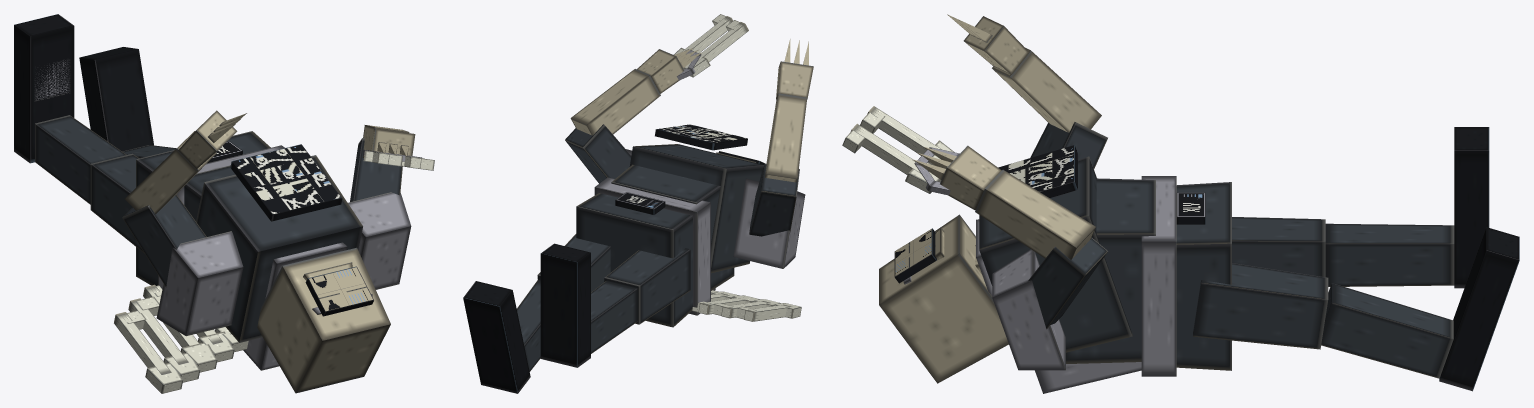
File: absentiel_hurt.obj
3 renders of one model, left to right at view 1: azimuth 30°, elevation 25°; view 2: azimuth 150°, elevation 25°; view 3: azimuth 270°, elevation 25°, orthographic. The views are drawn at different scales.
Visible parts, largest first — view 1: absentiel_hurt; view 2: absentiel_hurt; view 3: absentiel_hurt.
Part boxes in pixels (<box>): absentiel_hurt: <box>14,14,434,393</box>; absentiel_hurt: <box>463,14,813,393</box>; absentiel_hurt: <box>842,14,1519,393</box>.
Bounding box in the file's own units: 0.5781 × 0.5934 × 1.12.
Materials: 1 (1 with a texture image).
